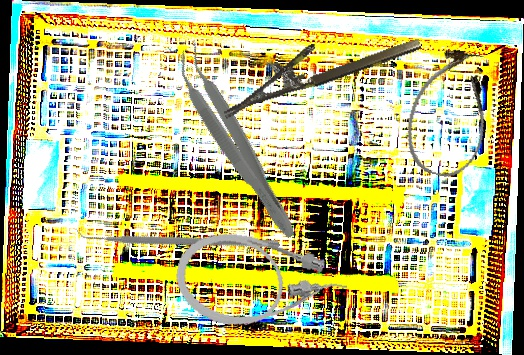Cannula: (168, 223, 354, 346), (396, 42, 504, 184)
Chopper: (72, 138, 281, 331)
Needle Holder: (212, 10, 423, 120)
Tissue Forceps: (165, 42, 310, 244)
